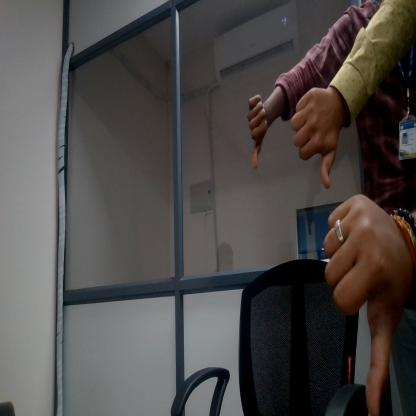Thumbs Down: (291, 81, 357, 199), (240, 78, 277, 182)
